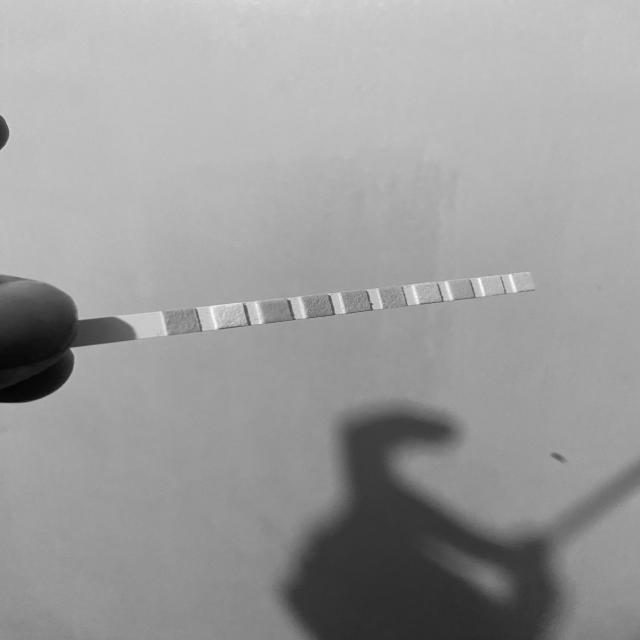Bilirubin: (216, 306, 243, 326)
Blood: (345, 292, 367, 312)
Glucose: (168, 311, 197, 332)
Ketone: (261, 301, 288, 321)
Leukocytes: (514, 274, 531, 291)
Nitrite: (484, 277, 501, 294)
Protein: (418, 284, 438, 302)
SpGravity: (306, 297, 329, 316)
Urobilinogen: (452, 280, 471, 298)
background: (0, 0, 640, 640)
pH: (382, 288, 403, 307)
strip: (82, 272, 536, 346)
